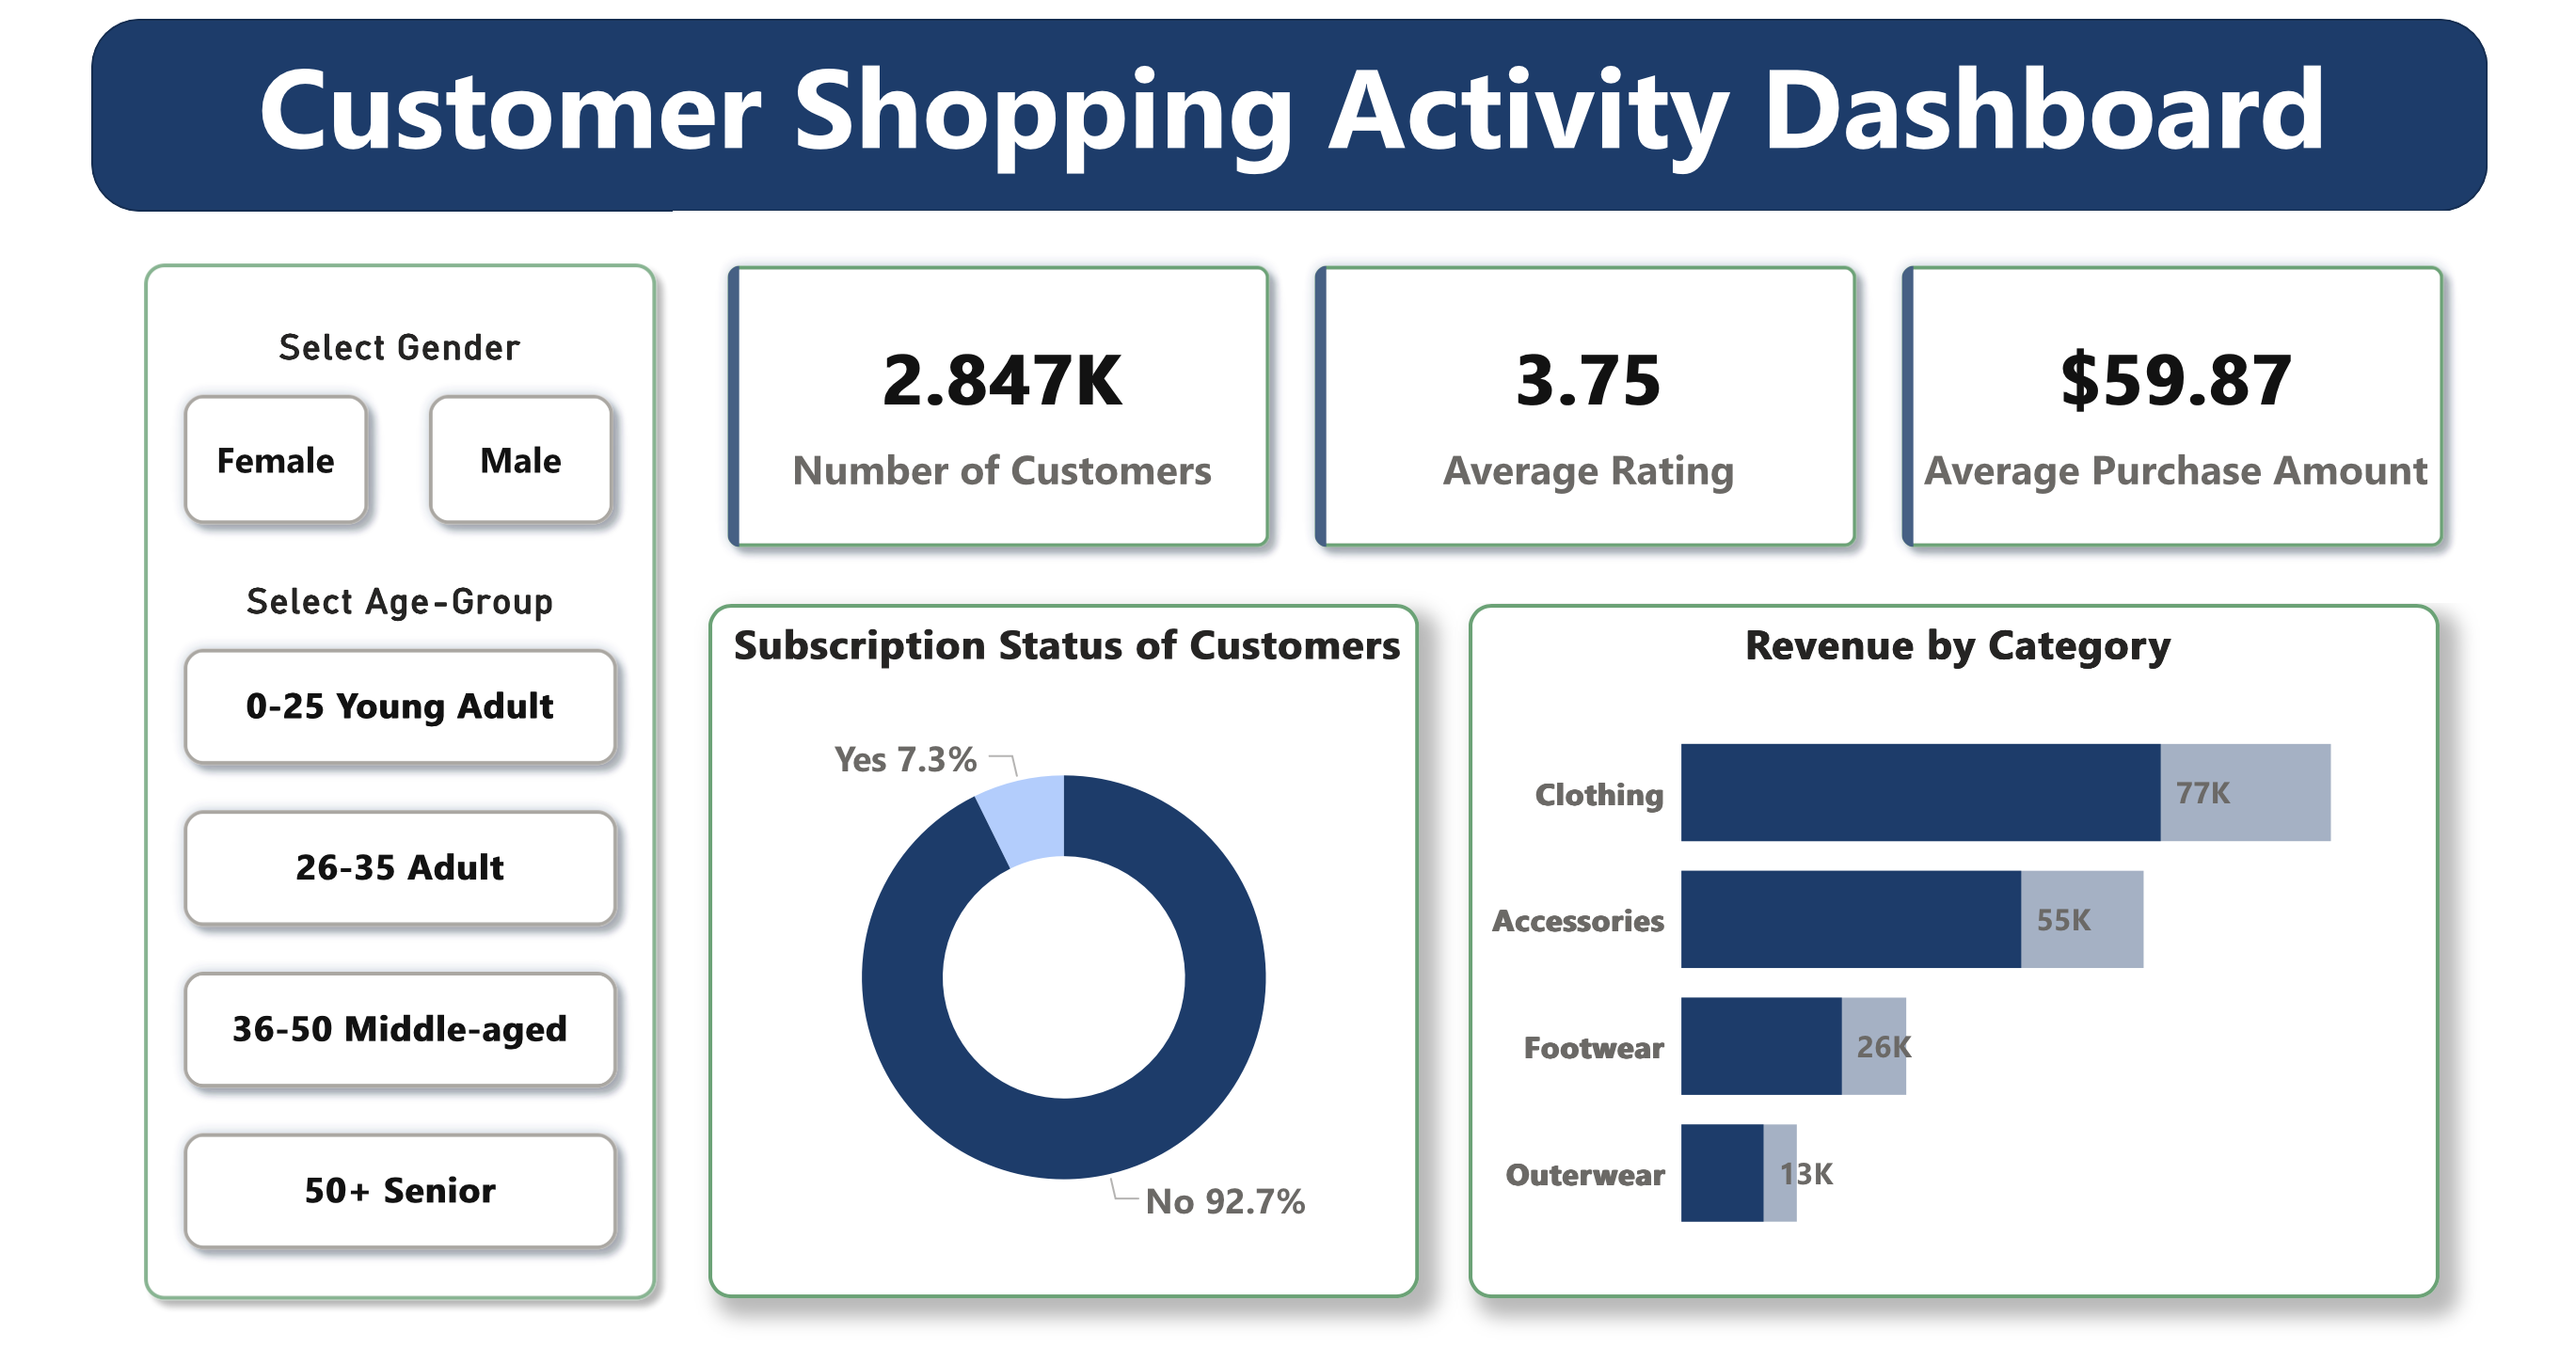

Layout of this report page (visuals, bound fields, positions):
{"tool":"powerbi","page":{"name":"Page 1","canvas":[1280,720],"ordinal":0},"visuals":[{"type":"shape","box":[10.1,10.1,1269.9,101.1],"z":0},{"type":"textbox","box":[28.9,10.1,1228,91],"z":1000},{"type":"clusteredBarChart","title":"Revenue by Category","fields":{"Category":["customer_cleaned_data.category"],"Y":["Sum(customer_cleaned_data.purchase_amount)"]},"box":[735.3,317.8,511.4,365.5],"z":2000},{"type":"cardVisual","fields":{"Data":["customer_cleaned_data.Number of Customers","customer_cleaned_data.Average Rating","customer_cleaned_data.Average Purchase Amount"]},"box":[316.4,111.2,963.6,206.6],"z":3000},{"type":"donutChart","title":"Subscription Status of Customers","fields":{"Category":["customer_cleaned_data.subscription_status"],"Y":["Sum(customer_cleaned_data.customer_id)"]},"box":[335.2,317.8,374.2,365.5],"z":4000},{"type":"shape","box":[28.9,130,287.5,563.4],"z":5000},{"type":"advancedSlicerVisual","title":"Select Age-Group","fields":{"Values":["customer_cleaned_data.age_group"]},"box":[41.4,306.8,262,368.4],"z":6000},{"type":"advancedSlicerVisual","title":"Gender","fields":{"Values":["customer_cleaned_data.gender"]},"box":[41.9,173.4,261.5,119.9],"z":6001}]}

Visuals, with their boxes on the page's 1280x720 design canvas (x1, y1, x2, y2). These are canvas units, not pixel positions in the 2576x1364 screenshot, which may show the page scaled, cropped or inside an application window:
shape: <region>10, 10, 1280, 111</region>
textbox: <region>29, 10, 1257, 101</region>
"Revenue by Category" clusteredBarChart: <region>735, 318, 1247, 683</region>
cardVisual - customer_cleaned_data.Number of Customers x customer_cleaned_data.Average Rating: <region>316, 111, 1280, 318</region>
"Subscription Status of Customers" donutChart: <region>335, 318, 709, 683</region>
shape: <region>29, 130, 316, 693</region>
"Select Age-Group" advancedSlicerVisual: <region>41, 307, 303, 675</region>
"Gender" advancedSlicerVisual: <region>42, 173, 303, 293</region>
